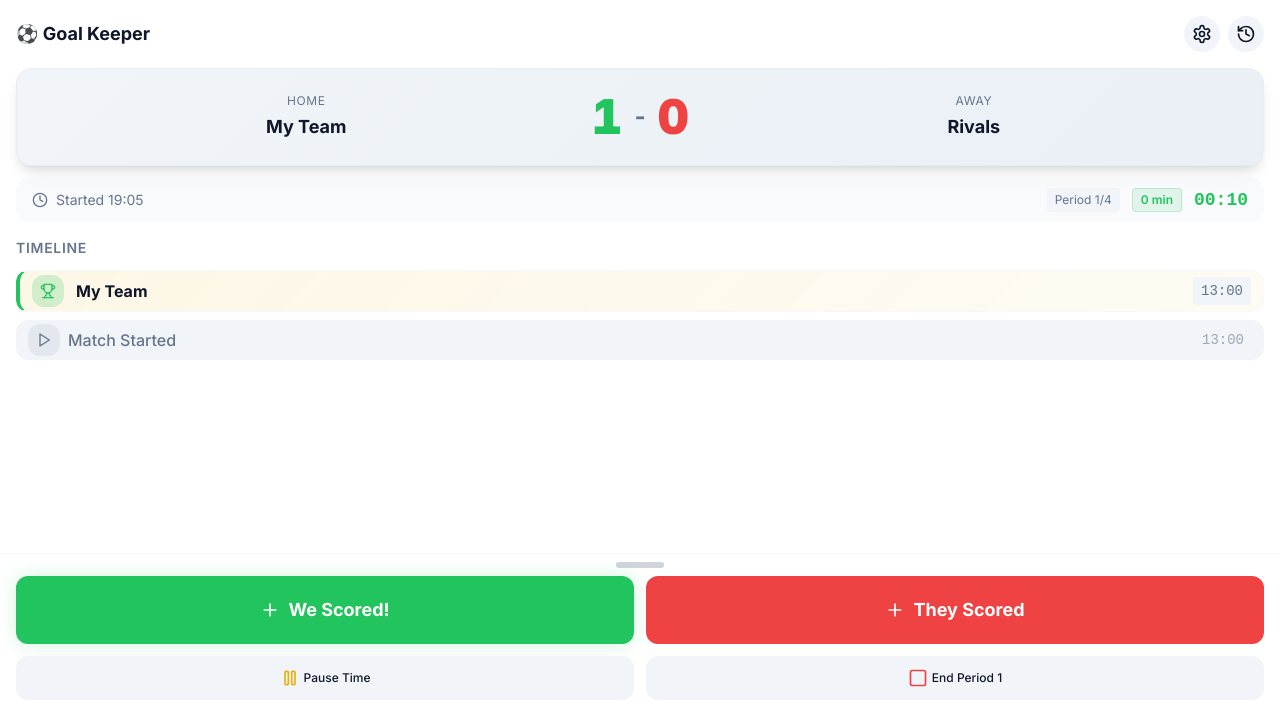
Scenario: Index match flow › toggles the timer from Pause Timer when running is true
Step 1. Click the button named "show extra actions" → (640, 569), box [16, 562, 1264, 576]
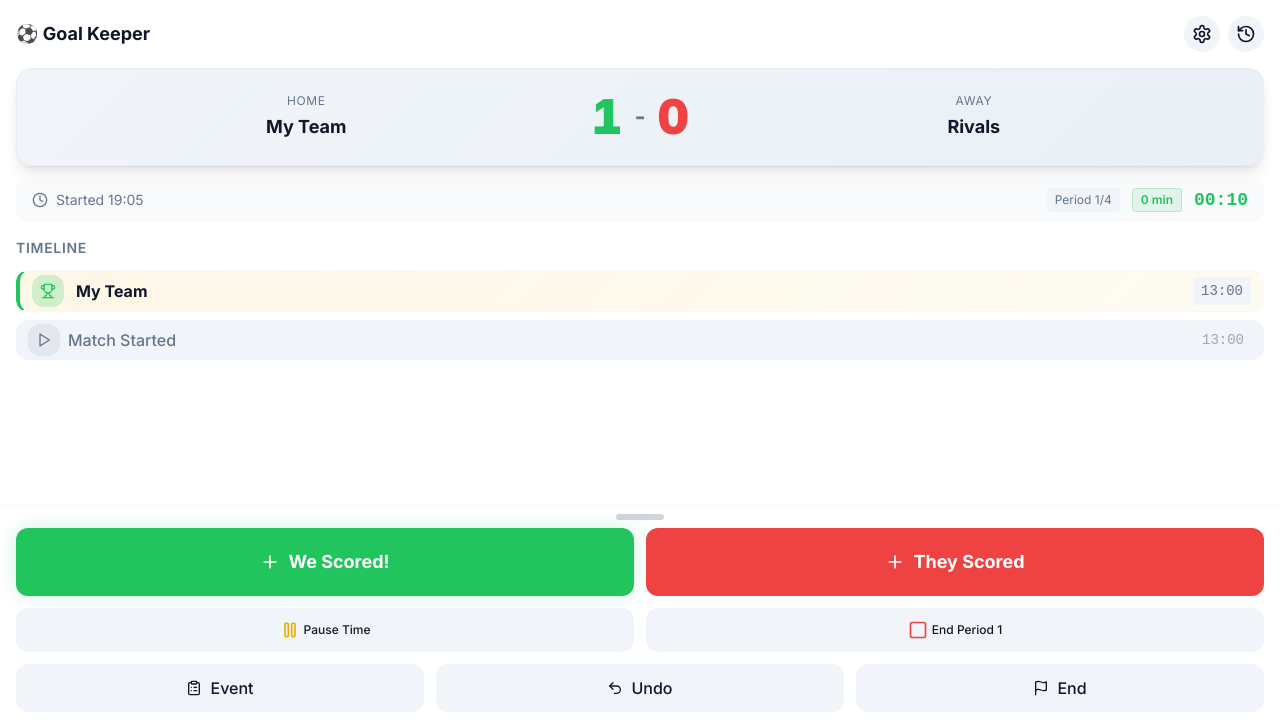
Step 2. Click the button "Event" → (220, 688), box [16, 664, 424, 712]
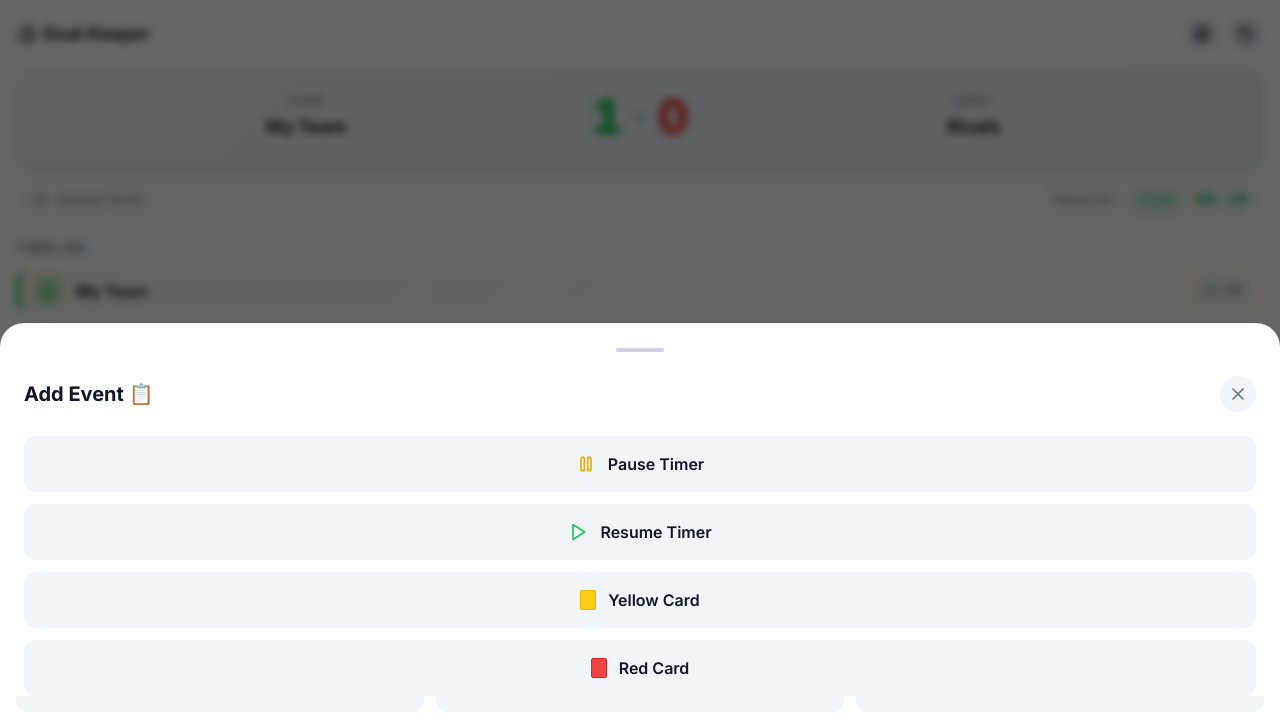
Step 3. Click the button "Pause Timer" → (640, 464), box [24, 436, 1256, 492]
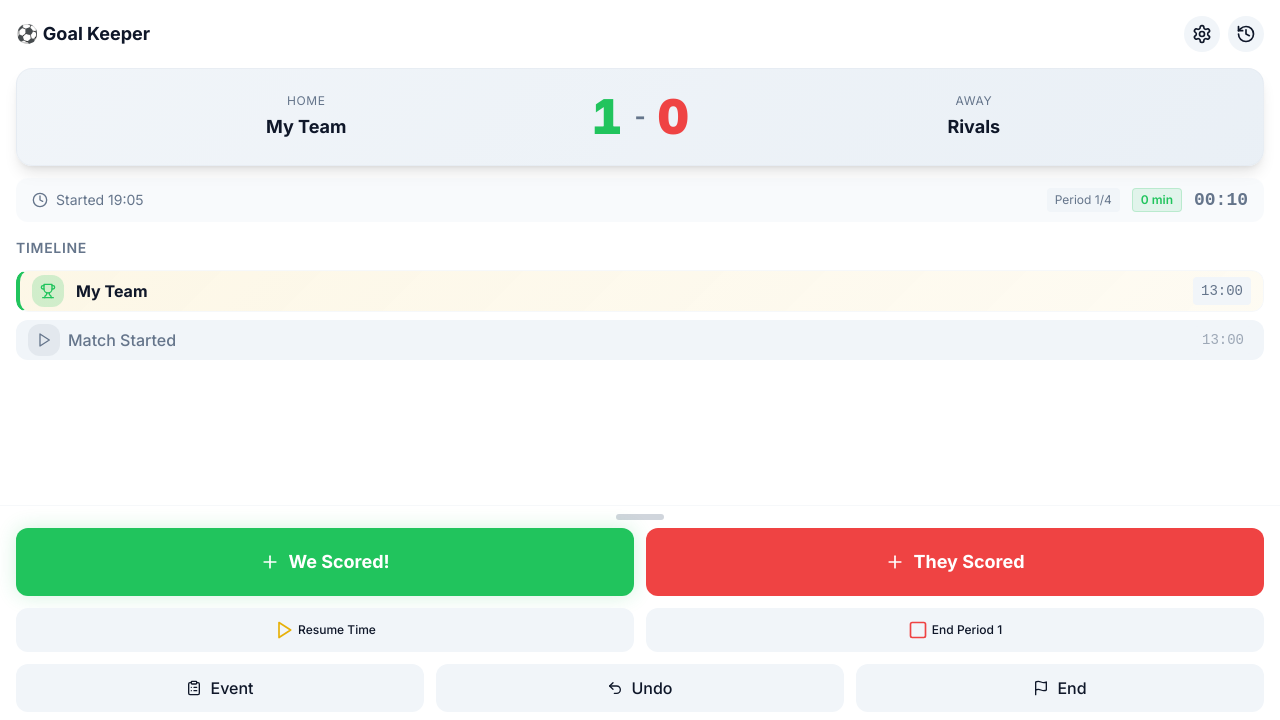
expect the heading "Add Event 📋" is gone: met
